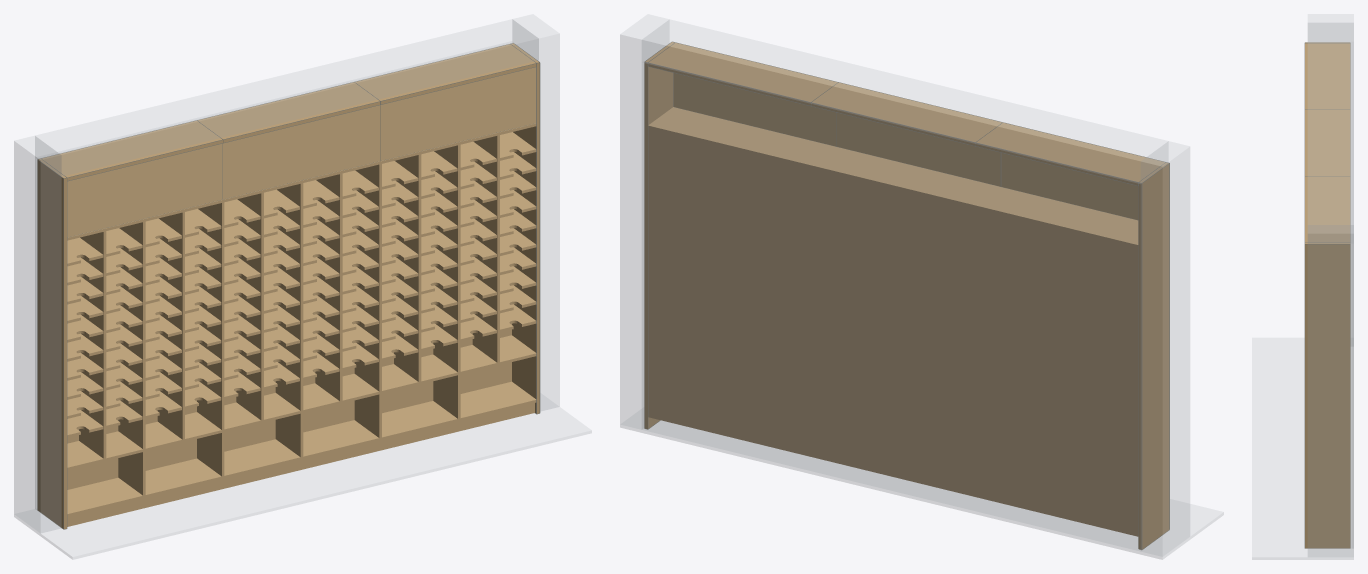
File: modell.glb
3 views of the same model, side by side, from view 1: azimuth 30°, elevation 25°; view 2: azimuth 150°, elevation 25°; view 3: azimuth 270°, elevation 25° (orthographic). The views are drawn at different scales.
Bounding box in the file's own units: 3734 × 2586 × 732.
